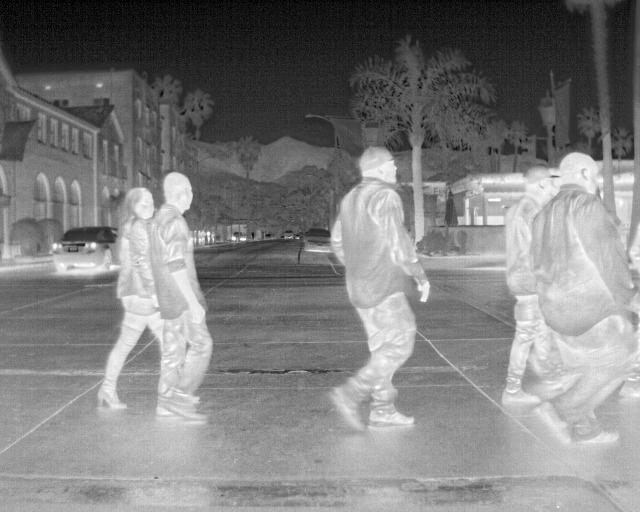bicycle: (50, 225, 120, 275), (304, 227, 334, 255), (283, 227, 298, 241)
empty: (530, 149, 638, 447), (326, 142, 430, 432), (146, 168, 216, 423), (97, 185, 163, 412), (500, 164, 560, 409)
